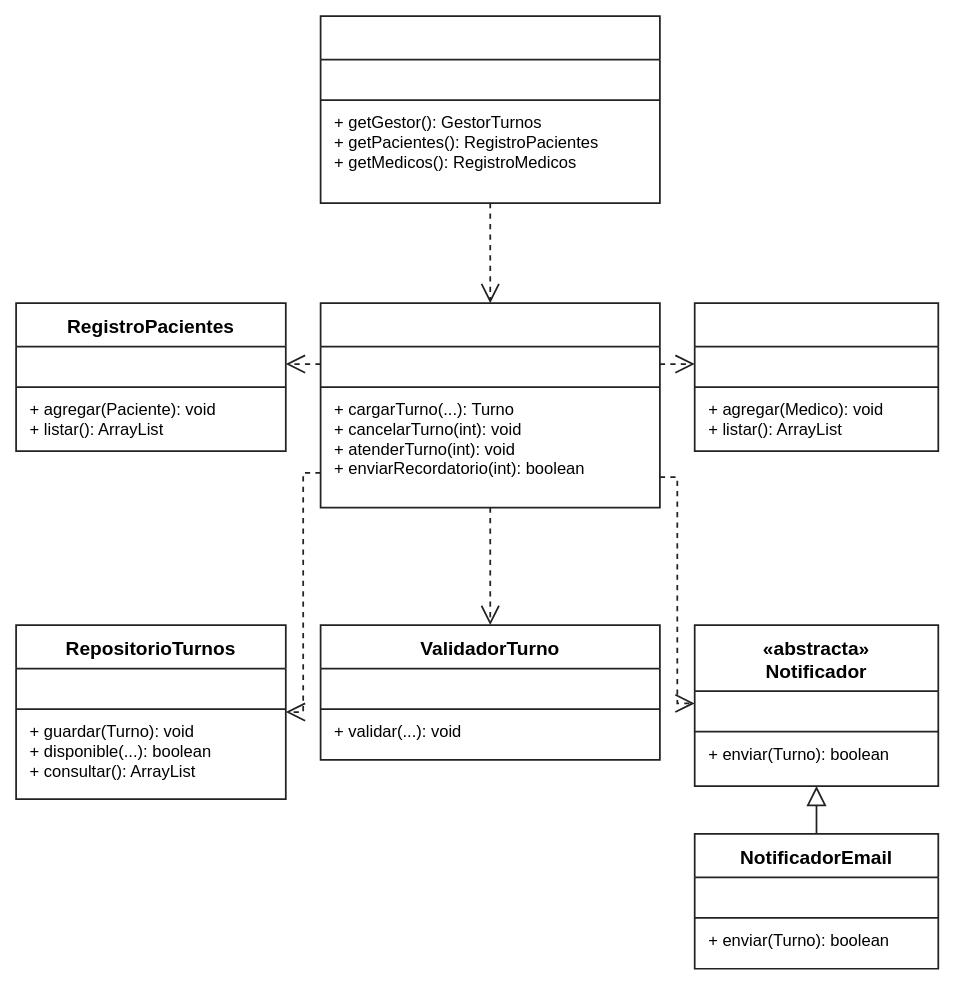
The diagram is 954 pixels wide and 984 high, and some of its shapes have lost their labels. The shapes that lost their labels are listed below. From the top down, each one's box as (x1, y1, x2, y2) in pixels, then its label:
(319, 15, 660, 204): AplicacionClinica
(693, 302, 939, 452): RegistroMedicos
(319, 302, 660, 508): GestorTurnos
